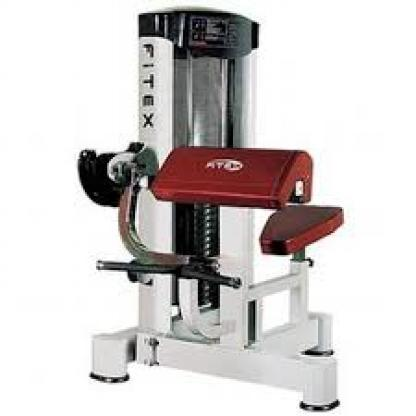arm curl machine: (78, 7, 344, 412)
